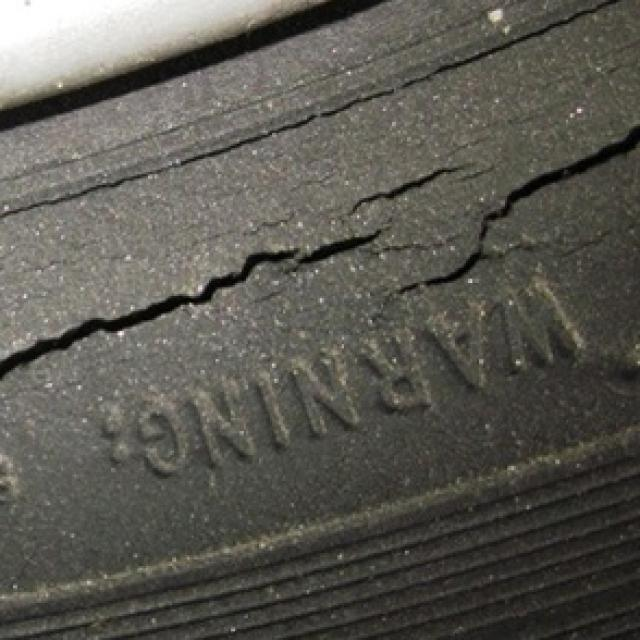Cracks: (0, 44, 638, 433)
